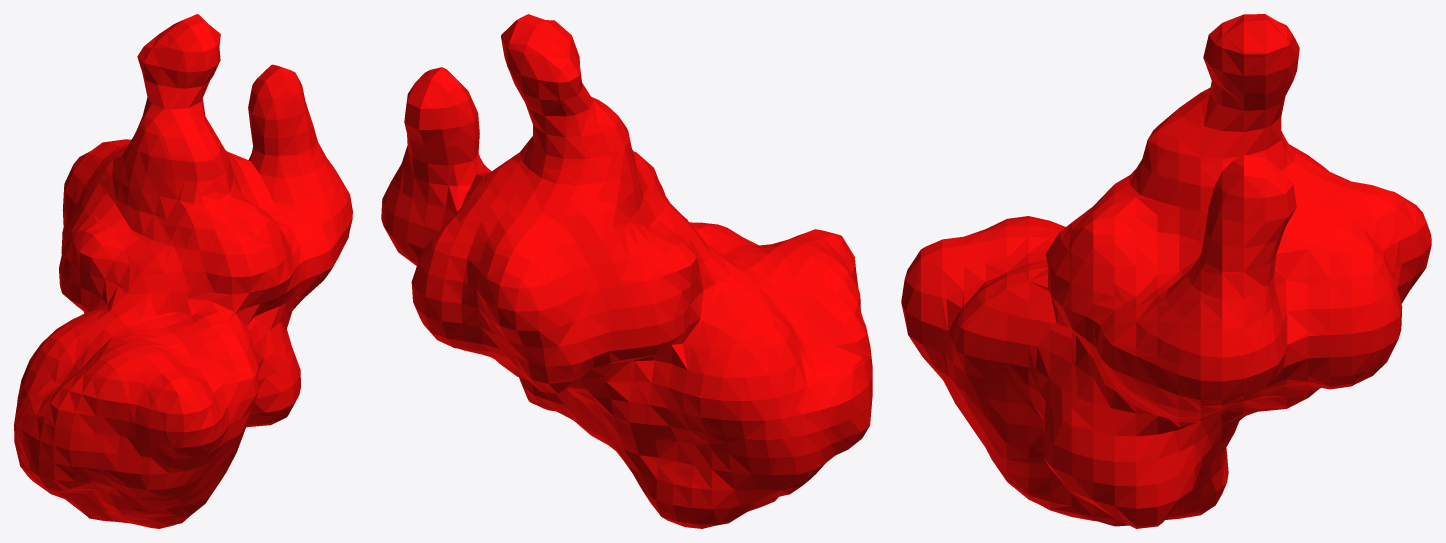
Rendered from yqgF_coarse.dae.
3 renders of one model, left to right at view 1: azimuth 30°, elevation 25°; view 2: azimuth 150°, elevation 25°; view 3: azimuth 270°, elevation 25°, orthographic. The views are drawn at different scales.
Parts seen in each view (by area): view 1: yqgF; view 2: yqgF; view 3: yqgF.
Part boxes in pixels (box(x1,y1,x2,y2)): yqgF: box(14, 14, 352, 528); yqgF: box(381, 14, 872, 528); yqgF: box(901, 14, 1431, 528).
Bounding box in the file's own units: 61.23 × 69.67 × 58.75.
